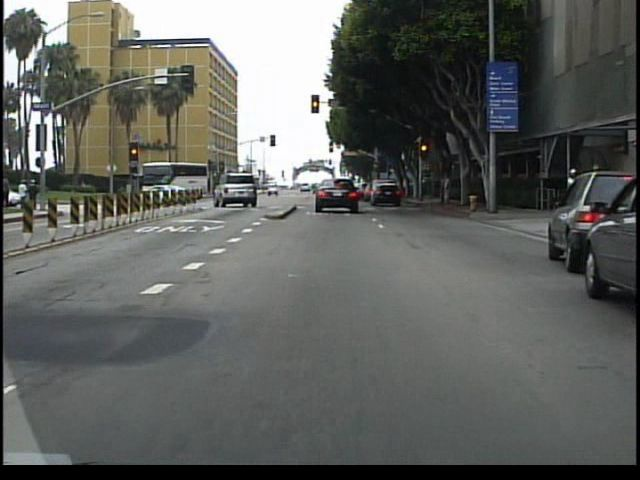person: (438, 167, 454, 209), (20, 177, 32, 207), (30, 177, 42, 207)
